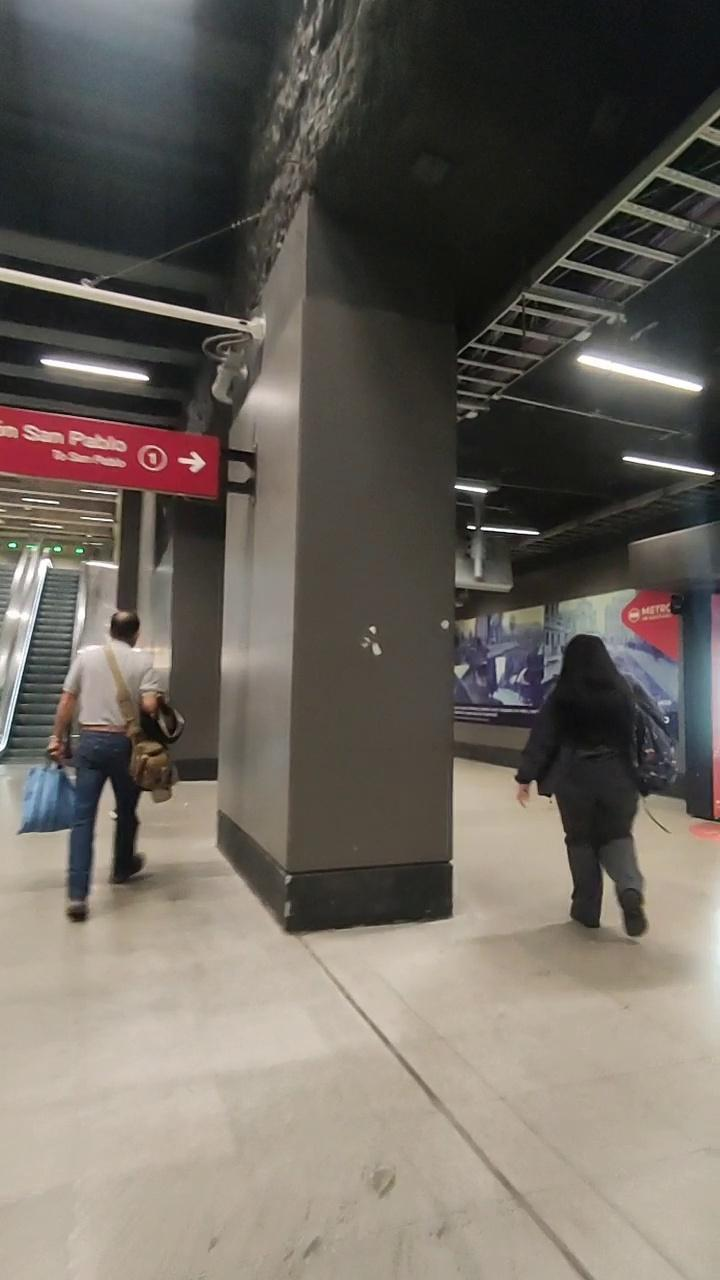right arrow: (177, 448, 208, 476)
